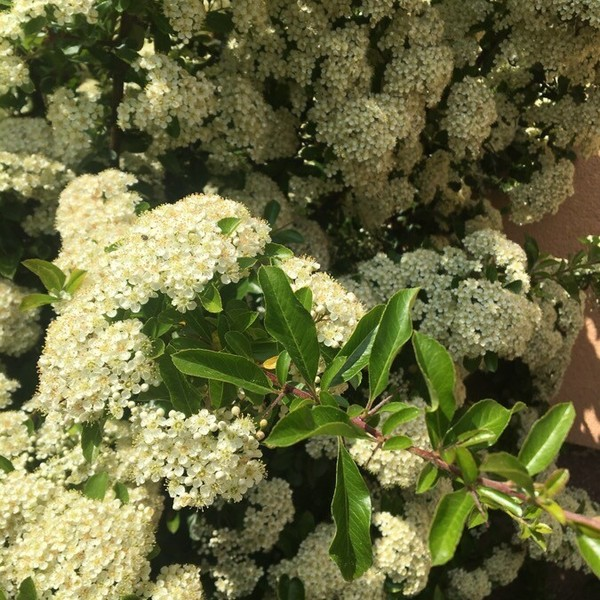obstacle: (24, 179, 409, 573), (168, 278, 570, 555)
